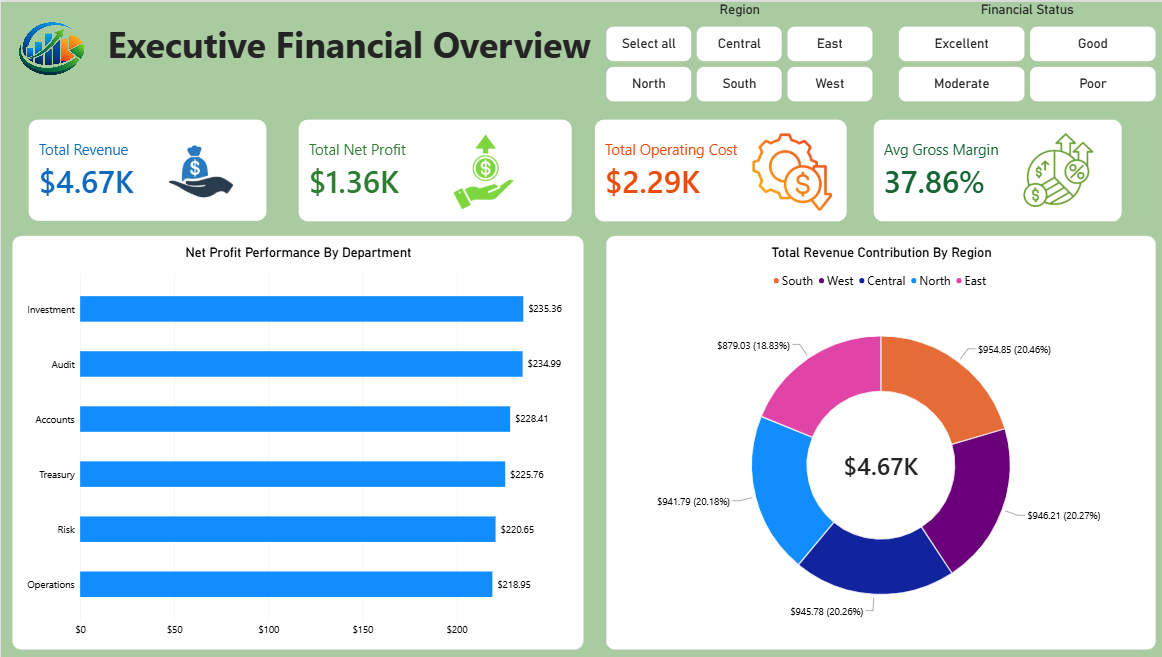

This screenshot's page, from the dashboard's own definition file:
{"tool":"powerbi","page":{"name":"Executive Financial Overview","canvas":[1920,1080],"ordinal":0},"visuals":[{"type":"cardVisual","fields":{"Data":["_Key_Metrics.Total Revenue"]},"box":[46.3,194,392.5,167.6],"z":0},{"type":"cardVisual","fields":{"Data":["_Key_Metrics.Total Net Profit"]},"box":[489.9,193.5,450.8,168.8],"z":1000},{"type":"cardVisual","fields":{"Data":["_Key_Metrics.Total Operating Cost"]},"box":[977.7,193.5,415.8,168.8],"z":2000},{"type":"cardVisual","fields":{"Data":["_Key_Metrics.Avg Gross Margin"]},"box":[1436.7,193.5,409.6,168.8],"z":3000},{"type":"textbox","box":[168.8,28.8,808.9,105],"z":4000},{"type":"clusteredBarChart","title":" Net Profit Performance By Department","fields":{"Category":["Dim_Department.Department"],"Y":["_Key_Metrics.Total Net Profit"]},"box":[18.5,384.9,940.7,681.3],"z":5000},{"type":"donutChart","title":"Total Revenue Contribution By Region","fields":{"Category":["Dim_Region.Region"],"Y":["_Key_Metrics.Total Revenue"]},"box":[996.2,384.9,905.7,681.3],"z":6000},{"type":"advancedSlicerVisual","fields":{"Values":["Dim_Region.Region"]},"box":[996.2,0,440.5,164.7],"z":7000},{"type":"advancedSlicerVisual","title":"Financial Status","fields":{"Values":["Dim_Status.Financial_Status"]},"box":[1477.9,0,424,164.7],"z":8000},{"type":"image","box":[0,8.2,168.8,148.2],"z":8001},{"type":"image","box":[242.9,144.1,172.9,269.6],"z":8002},{"type":"image","box":[681.3,218.2,226.4,123.5],"z":8006},{"type":"image","box":[1232.9,212,140,135.8],"z":8007},{"type":"image","box":[1607.6,212,267.6,129.7],"z":8008}]}

Visuals, with their boxes in screenshot pixels (x1, y1, x2, y2), scaled from the page's 1920x1080 canvas onto the 1162x657 screenshot:
cardVisual - _Key_Metrics.Total Revenue: locate(28, 118, 266, 220)
cardVisual - _Key_Metrics.Total Net Profit: locate(296, 118, 569, 220)
cardVisual - _Key_Metrics.Total Operating Cost: locate(592, 118, 843, 220)
cardVisual - _Key_Metrics.Avg Gross Margin: locate(870, 118, 1117, 220)
textbox: locate(102, 18, 592, 81)
" Net Profit Performance By Department" clusteredBarChart: locate(11, 234, 581, 649)
"Total Revenue Contribution By Region" donutChart: locate(603, 234, 1151, 649)
advancedSlicerVisual - Dim_Region.Region: locate(603, 0, 870, 100)
"Financial Status" advancedSlicerVisual: locate(894, 0, 1151, 100)
image: locate(0, 5, 102, 95)
image: locate(147, 88, 252, 252)
image: locate(412, 133, 549, 208)
image: locate(746, 129, 831, 212)
image: locate(973, 129, 1135, 208)
